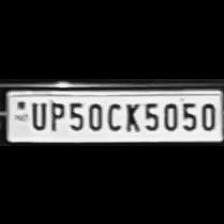0: (84, 98, 104, 130), (197, 98, 217, 130), (160, 97, 178, 130)
5: (140, 97, 160, 131), (64, 97, 84, 130), (178, 97, 198, 130)
C: (104, 98, 124, 132)
K: (122, 99, 142, 133)
P: (46, 97, 64, 131)
U: (27, 97, 47, 130)
